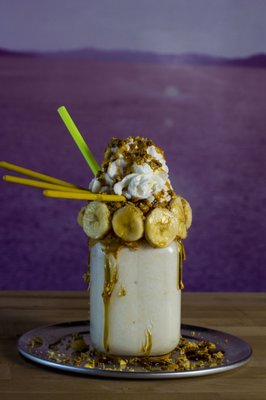curry: (0, 289, 266, 400)
